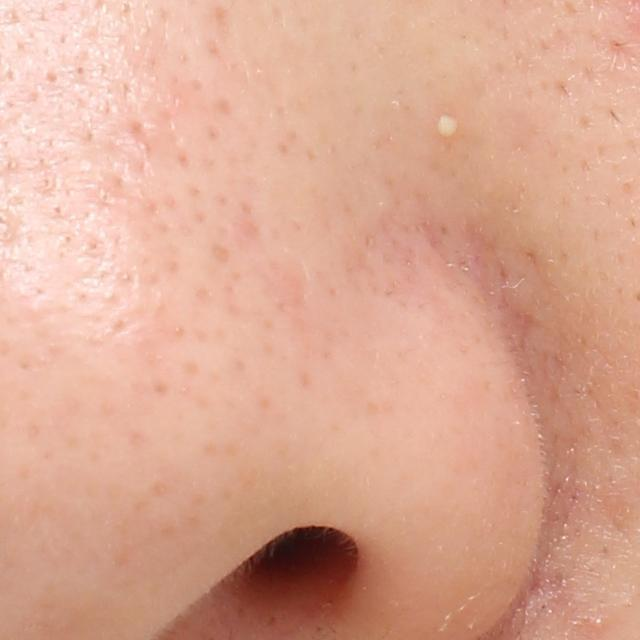pustule: (434, 107, 465, 142)
